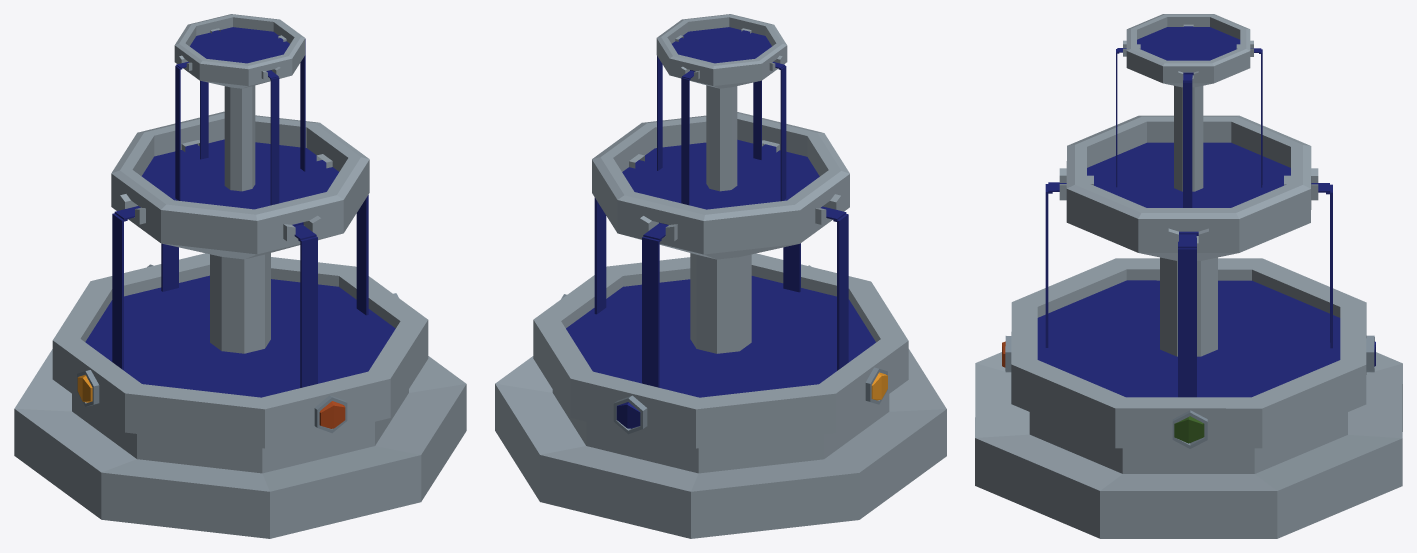
The model's file is Fontaine4.obj.
3 views of the same model, side by side, from view 1: azimuth 30°, elevation 25°; view 2: azimuth 150°, elevation 25°; view 3: azimuth 270°, elevation 25° (orthographic).
Parts seen in each view (by area): view 1: Cylinder.119, Cylinder.116, Cylinder.117, Plane.082, Plane.081, Cylinder.118, Plane.080, Plane.079, Gem1.002; view 2: Cylinder.119, Cylinder.116, Cylinder.117, Plane.079, Plane.081, Cylinder.118, Plane.080, Plane.082, Cylinder.115; view 3: Cylinder.119, Cylinder.116, Cylinder.117, Plane.080, Cylinder.118, Plane.082, Plane.079, Gem_4.003, Cylinder.112.
Part boxes in pixels (x1,y1,x2,y2): Cylinder.119: (14, 14, 466, 538); Cylinder.116: (85, 275, 395, 397); Cylinder.117: (141, 139, 338, 226); Plane.082: (267, 70, 317, 387); Plane.081: (112, 61, 189, 370); Cylinder.118: (190, 27, 289, 71); Plane.080: (300, 39, 368, 315); Plane.079: (161, 80, 208, 291); Gem1.002: (319, 401, 345, 428); Cylinder.119: (495, 14, 946, 538); Cylinder.116: (566, 276, 875, 397); Cylinder.117: (622, 139, 819, 224); Plane.079: (642, 70, 694, 387); Plane.081: (772, 62, 848, 370); Cylinder.118: (672, 27, 771, 71); Plane.080: (594, 56, 662, 314); Plane.082: (753, 80, 800, 292); Cylinder.115: (613, 395, 647, 434); Cylinder.119: (975, 14, 1402, 538); Cylinder.116: (1037, 280, 1340, 397); Cylinder.117: (1087, 142, 1290, 235); Plane.080: (1178, 74, 1196, 397); Cylinder.118: (1137, 26, 1240, 75); Plane.082: (1045, 48, 1126, 347); Plane.079: (1250, 48, 1332, 348); Gem_4.003: (1174, 416, 1204, 443); Cylinder.112: (1172, 410, 1207, 448).
Size of the model in its own units: 4.74 by 5 by 4.74.
Materials: 1 (1 with a texture image).
